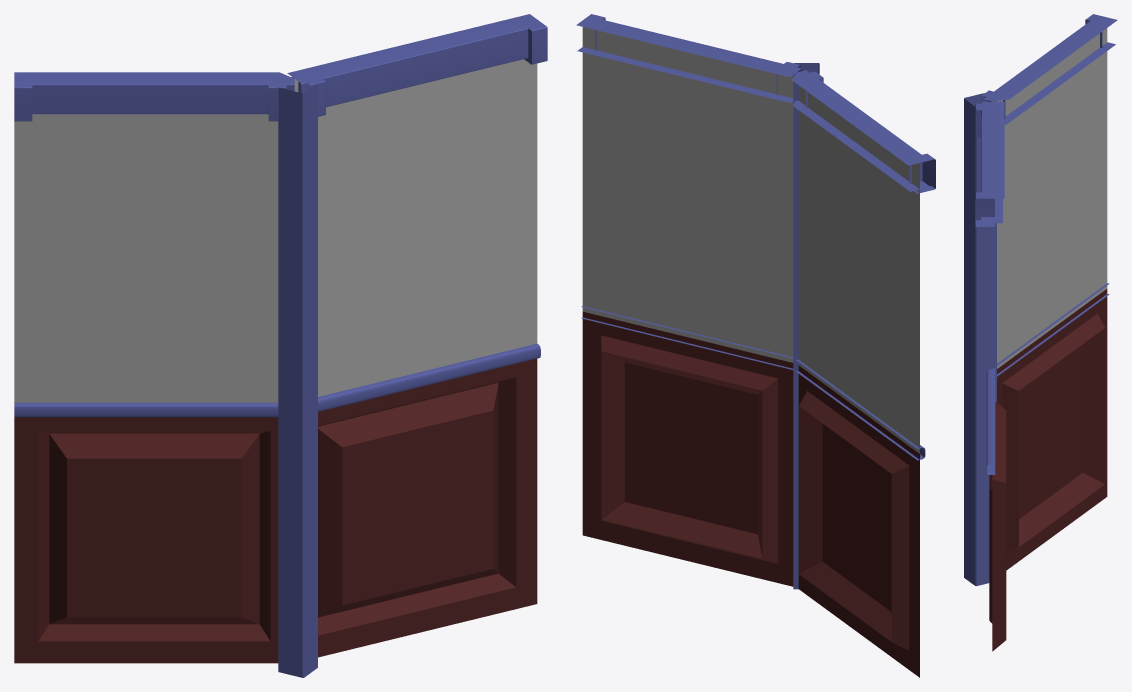
File: zal_6.fbx
3 views of the same model, side by side, from view 1: azimuth 30°, elevation 25°; view 2: azimuth 150°, elevation 25°; view 3: azimuth 270°, elevation 25° (orthographic). The views are drawn at different scales.
Visible parts, largest first — view 1: zal_6; view 2: zal_6; view 3: zal_6.
Boxes of the visible parts, x1,y1,x2,y2 form: zal_6: (14,14,547,677); zal_6: (576,14,935,677); zal_6: (964,14,1117,651).
Size of the model in its own units: 190 by 230 by 67.
